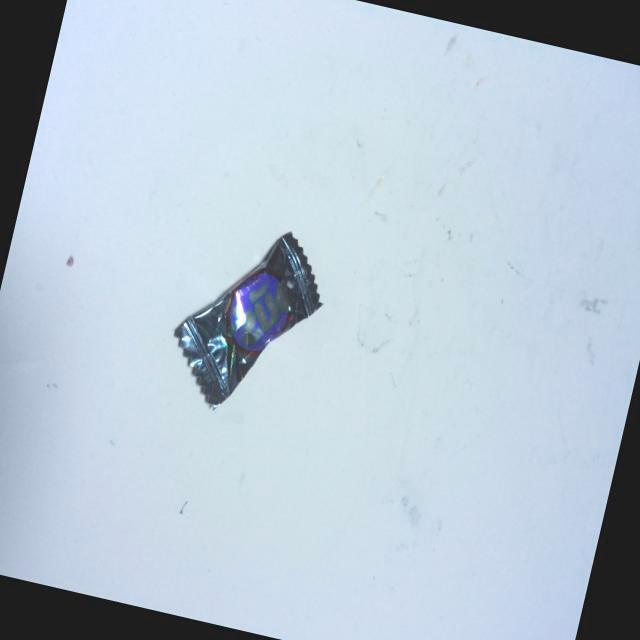plastic: (131, 194, 357, 455)
